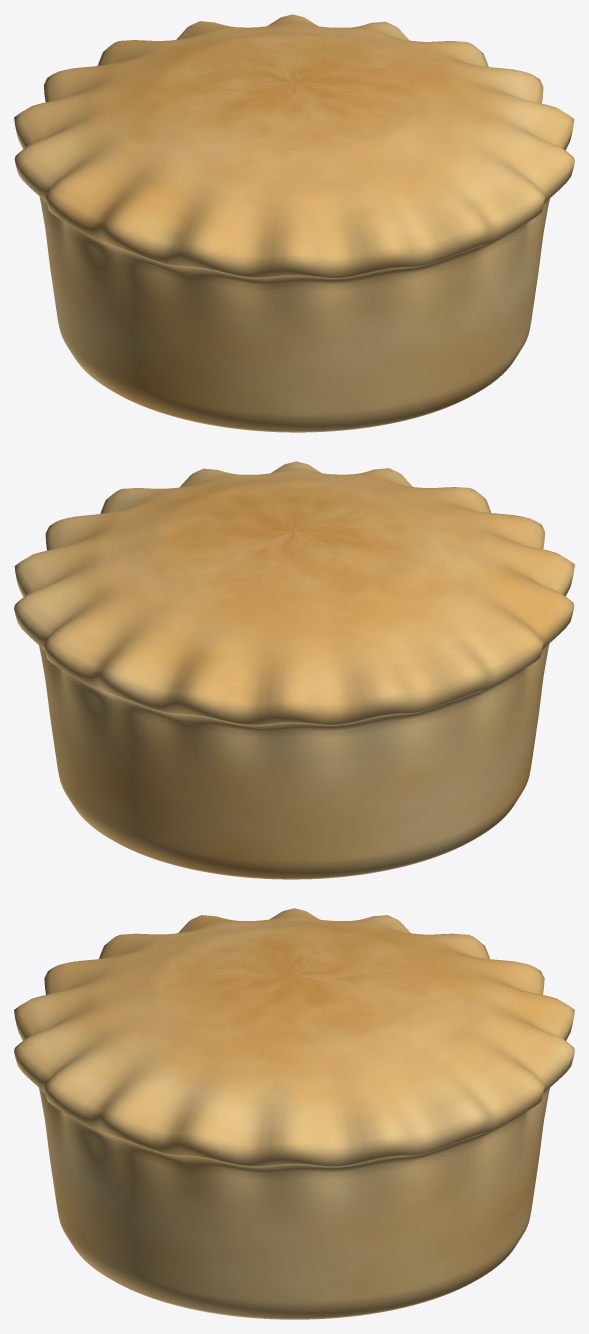
File: empada.glb
3 renders of one model, top to bottom at view 1: azimuth 30°, elevation 25°; view 2: azimuth 150°, elevation 25°; view 3: azimuth 270°, elevation 25°, orthographic.
Parts seen in each view (by area): view 1: empada; view 2: empada; view 3: empada.
Boxes of the visible parts, bbox=[...] form: empada: bbox=[14, 14, 574, 432]; empada: bbox=[14, 461, 574, 879]; empada: bbox=[14, 908, 574, 1319].
Bounding box in the file's own units: 0.08 × 0.04 × 0.08.
1 material, 1 textured.
